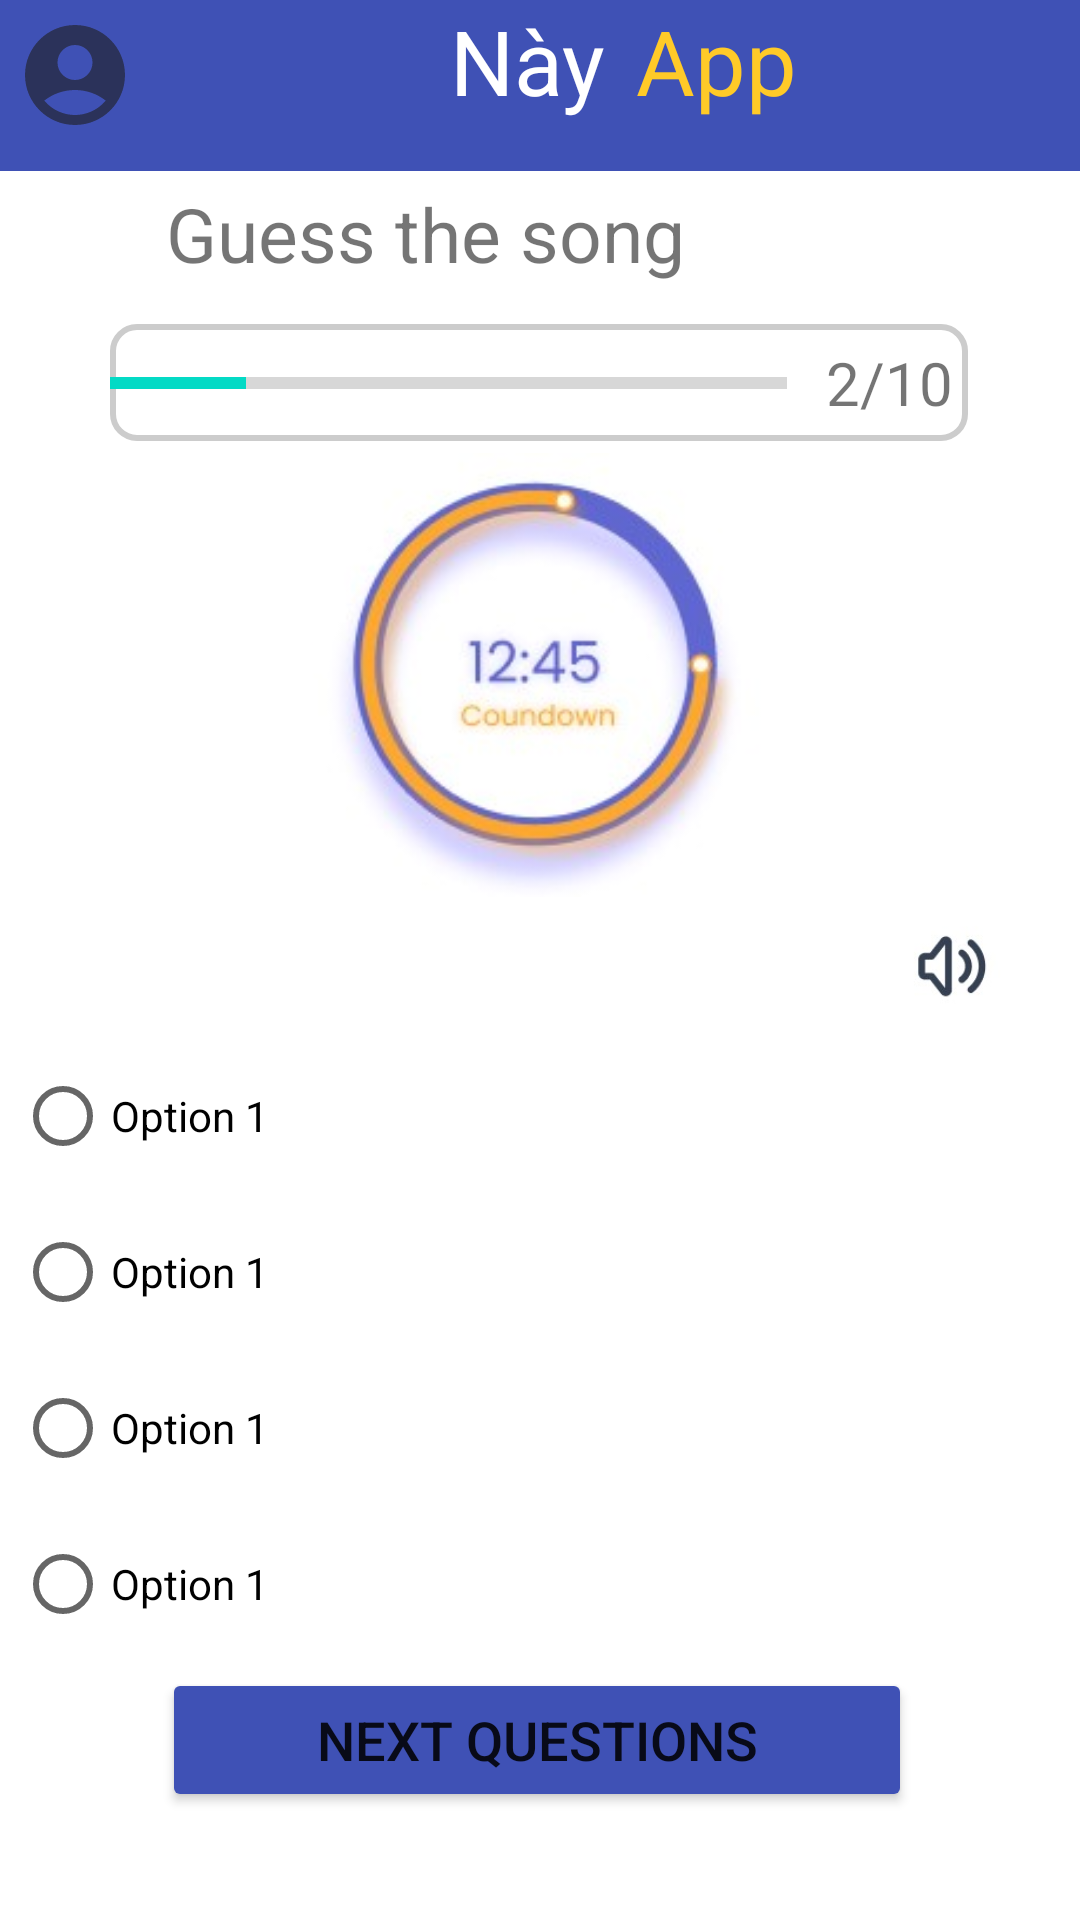

Icon click points for this 1080 × 1920 phone screenshot, format point (x, y):
account: point (75, 75)
sound: point (952, 966)
